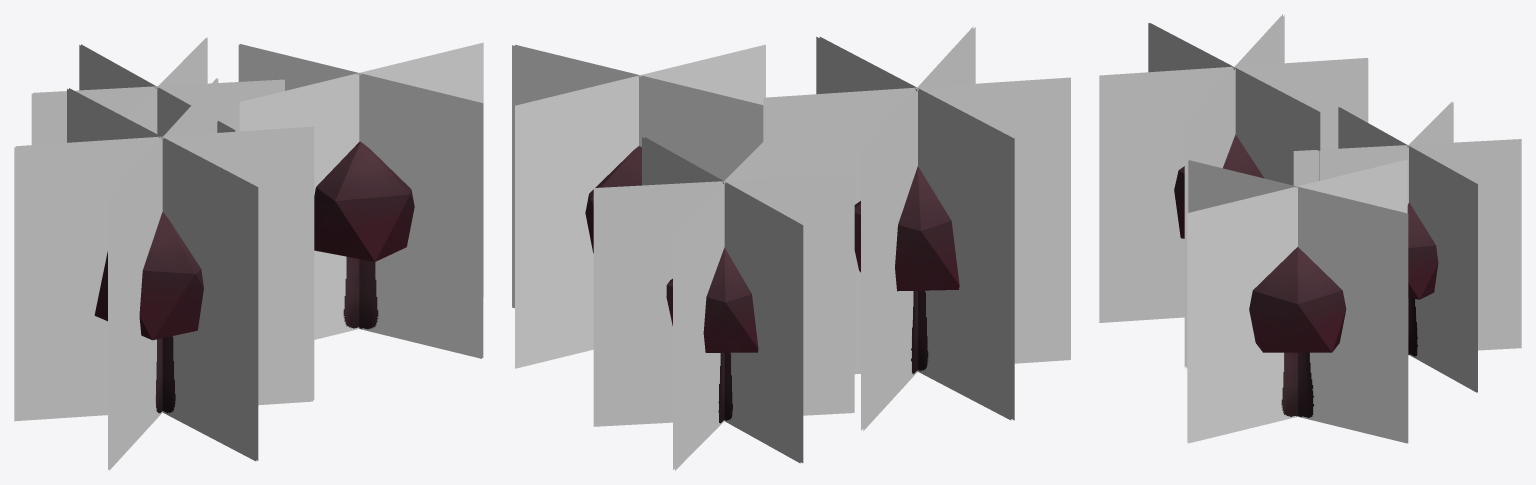
File: Mushrooms_06.fbx
3 renders of one model, left to right at view 1: azimuth 30°, elevation 25°; view 2: azimuth 150°, elevation 25°; view 3: azimuth 270°, elevation 25°, orthographic. The views are drawn at different scales.
Visible parts, largest first — view 1: Mushrooms06; view 2: Mushrooms06; view 3: Mushrooms06.
Part boxes in pixels (x1,y1,x2,y2): Mushrooms06: (14,37,483,470); Mushrooms06: (512,26,1070,470); Mushrooms06: (1099,14,1521,443).
Bounding box in the file's own units: 0.2168 × 0.1185 × 0.184.
Materials: 1 (1 with a texture image).
